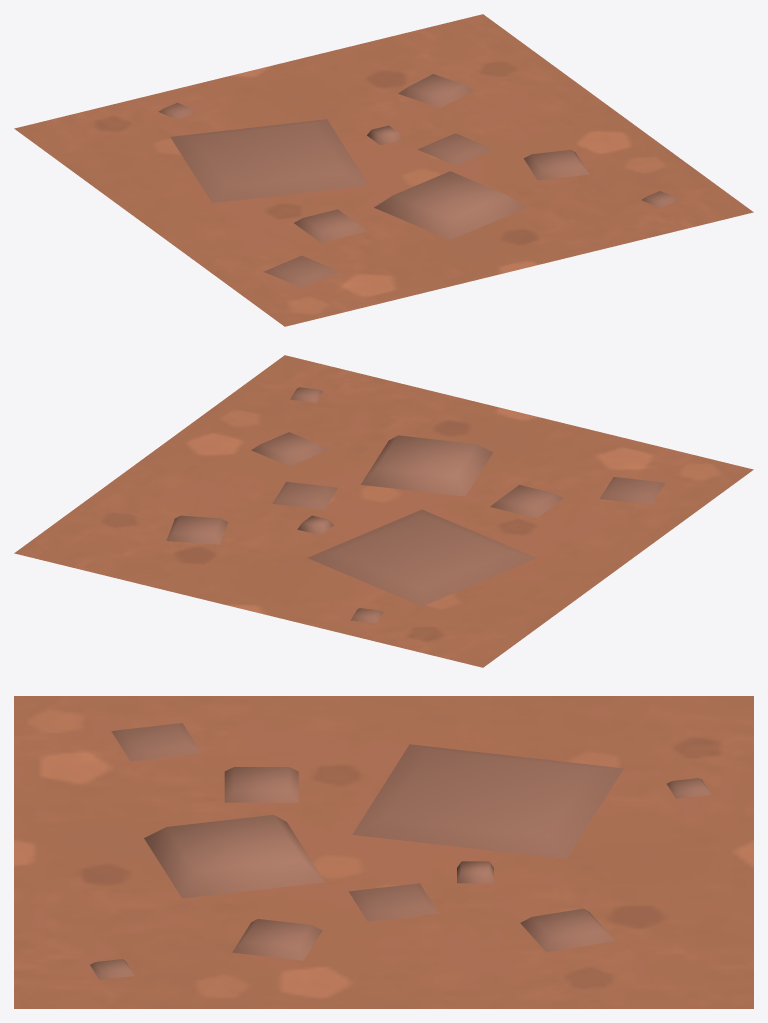
The model's file is template_floor_detail_a.glb.
3 views of the same model, one above another, from view 1: azimuth 30°, elevation 25°; view 2: azimuth 150°, elevation 25°; view 3: azimuth 270°, elevation 25° (orthographic). The views are drawn at different scales.
Parts seen in each view (by area): view 1: template-floor-detail-a; view 2: template-floor-detail-a; view 3: template-floor-detail-a.
Part boxes in pixels (bbox=[...]): template-floor-detail-a: bbox=[14, 14, 753, 326]; template-floor-detail-a: bbox=[14, 355, 753, 667]; template-floor-detail-a: bbox=[14, 696, 753, 1008].
Bounding box in the file's own units: 4 × 0.1 × 4.
1 material, 1 textured.
